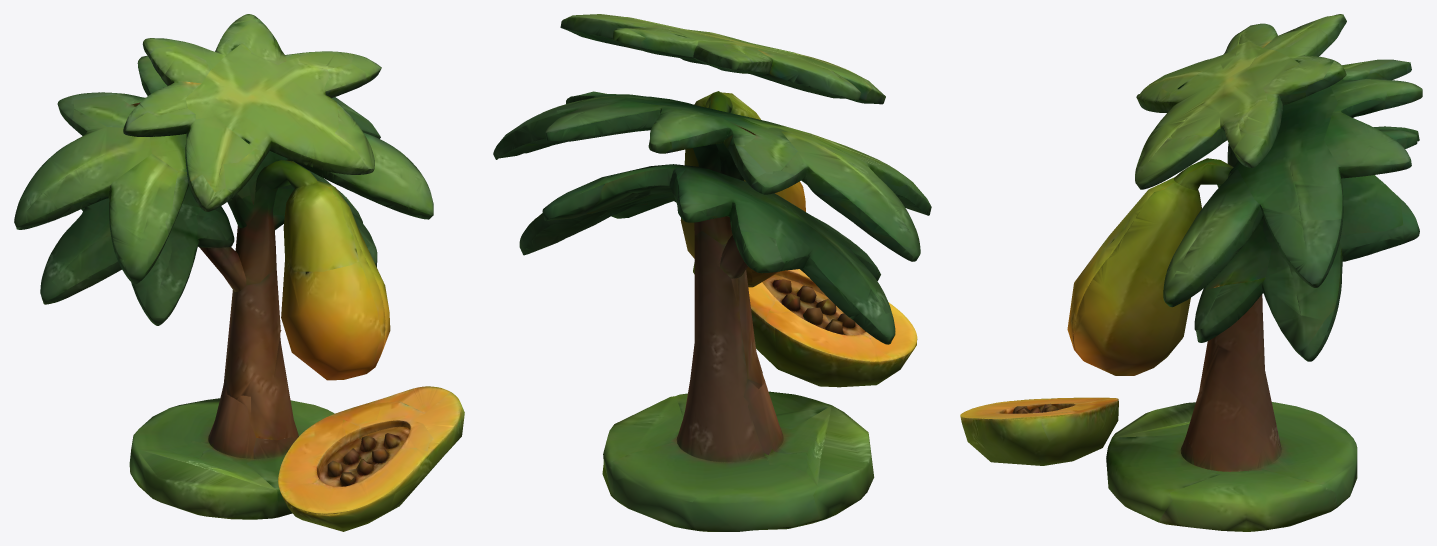
The model's file is papaya_pbr.glb.
3 views of the same model, side by side, from view 1: azimuth 30°, elevation 25°; view 2: azimuth 150°, elevation 25°; view 3: azimuth 270°, elevation 25° (orthographic). The views are drawn at different scales.
Parts seen in each view (by area): view 1: model.012; view 2: model.012; view 3: model.012.
Boxes of the visible parts, bbox=[...] form: model.012: bbox=[14, 14, 464, 531]; model.012: bbox=[493, 14, 931, 531]; model.012: bbox=[960, 14, 1422, 531].
Size of the model in its own units: 1.6 by 1.71 by 1.63.
1 material, 1 textured.
